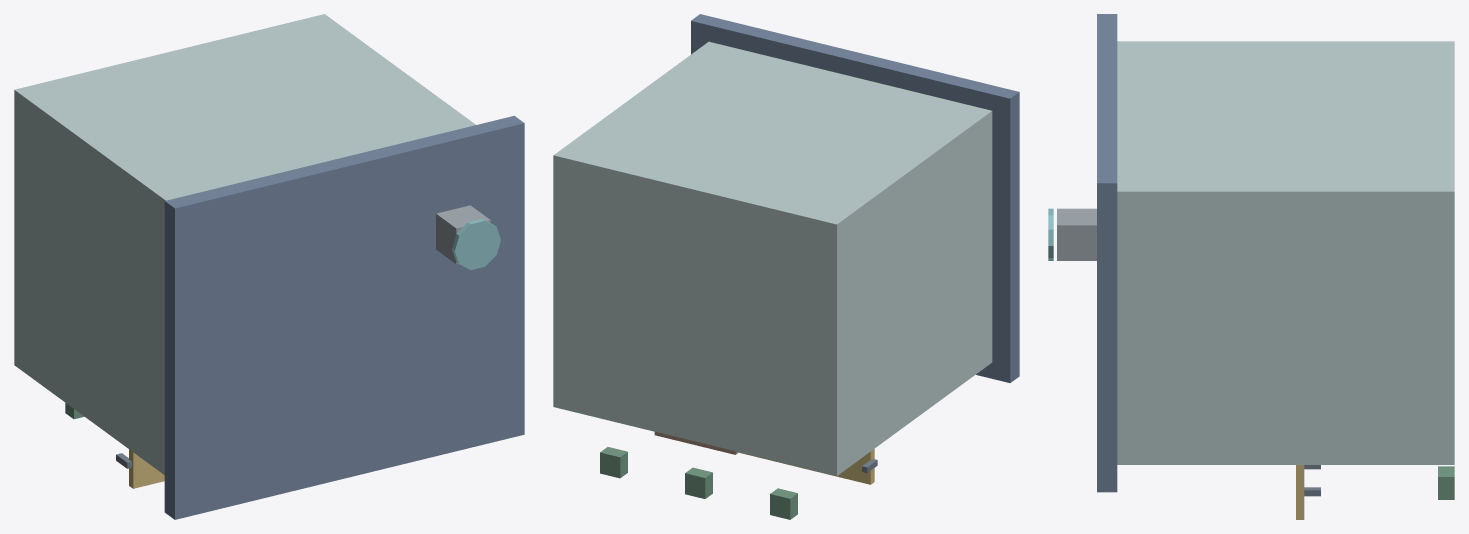
Rendered from coffee_stall.glb.
3 views of the same model, side by side, from view 1: azimuth 30°, elevation 25°; view 2: azimuth 150°, elevation 25°; view 3: azimuth 270°, elevation 25° (orthographic). The views are drawn at different scales.
Visible parts, largest first — view 1: roof2, wall2, glass, metal2, sun; view 2: wall2, roof2, green, sun; view 3: wall2, roof2, metal2, green, sun.
Part boxes in pixels (x1=…): roof2: x1=164, y1=115, x2=524, y2=519; wall2: x1=14, y1=14, x2=475, y2=474; glass: x1=452, y1=219, x2=500, y2=269; metal2: x1=436, y1=205, x2=490, y2=264; sun: x1=129, y1=449, x2=164, y2=488; wall2: x1=553, y1=41, x2=992, y2=475; roof2: x1=691, y1=14, x2=1019, y2=382; green: x1=600, y1=447, x2=797, y2=519; sun: x1=739, y1=449, x2=874, y2=484; wall2: x1=1117, y1=41, x2=1454, y2=464; roof2: x1=1097, y1=14, x2=1117, y2=492; metal2: x1=1057, y1=208, x2=1096, y2=260; green: x1=1438, y1=466, x2=1454, y2=499; sun: x1=1296, y1=465, x2=1304, y2=519.
Size of the model in its own units: 7.12 by 7.16 by 7.23.
